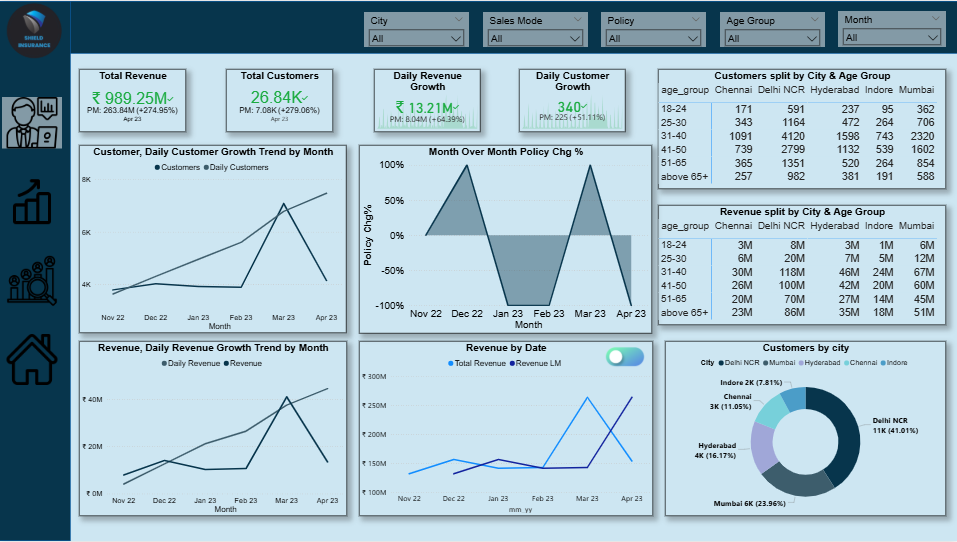

The dashboard page shown, as its layout file describes it:
{"tool":"powerbi","page":{"name":"Executive","canvas":[1920,1080],"ordinal":1},"visuals":[{"type":"donutChart","title":"Customers by city","fields":{"Y":["Key Measures.Total Customers"],"Category":["dim_customer.city"]},"box":[1334,679.9,562,350],"z":0},{"type":"lineChart","title":"Revenue by Date","fields":{"Y":["Key Measures.Total Revenue","Key Measures.Revenue LY"],"Category":["dim_date.mm_yy","dim_date.date"]},"box":[722.5,680,587.5,350],"z":0,"group":"g2"},{"type":"kpi","title":"Total Revenue","fields":{"TrendLine":["dim_date.mm_yy"],"Goal":["Key Measures.Blank Revenue"],"Indicator":["Key Measures.TOTAL REVENUE ALL"]},"box":[162.3,136.3,213.8,125.6],"z":1000},{"type":"image","box":[1197.5,680,112.5,62.5],"z":1000,"group":"g2"},{"type":"kpi","title":"Daily Customer Growth","fields":{"Goal":["Key Measures.Blank Customer PD"],"TrendLine":["dim_date.mm_yy"],"Indicator":["Key Measures.Average Daily Customer KPI Value"]},"box":[1041.8,136.3,213,125.6],"z":2000},{"type":"lineChart","title":"Revenue, Daily Revenue Growth Trend by Month","fields":{"Y":["Sum(policy customer_revenue_growth_over_time.REVENUE)"],"Y2":["Key Measures.Total Revenue"],"Category":["dim_date.mm_yy"]},"box":[162.3,679.9,535.6,350.4],"z":3000},{"type":"pivotTable","title":"Customers split by City & Age Group","fields":{"Values":["Key Measures.Total Customers"],"Columns":["dim_customer.city"],"Rows":["dim_customer.age_group"]},"box":[1320,136.3,576,240],"z":4000},{"type":"pivotTable","title":"Revenue split by City & Age Group","fields":{"Columns":["dim_customer.city"],"Rows":["dim_customer.age_group"],"Values":["Key Measures.Total Revenue"]},"box":[1320,408.1,576,240],"z":5000},{"type":"lineChart","title":"Customer, Daily Customer Growth Trend by Month","fields":{"Category":["dim_date.mm_yy"],"Y":["Key Measures.Total Customers"],"Y2":["Max(policy customer_revenue_growth_over_time.CUSTOMER_GROWTH)"]},"box":[162.3,288,535,376],"z":6000},{"type":"kpi","title":"Total Customers","fields":{"TrendLine":["dim_date.mm_yy"],"Goal":["Key Measures.Blank Customers"],"Indicator":["Key Measures.TOTAL CUSTOMERS ALL"]},"box":[456.9,136.3,213.8,125.6],"z":7000},{"type":"kpi","title":"Daily Revenue Growth","fields":{"Goal":["Key Measures.Blank Daily Revenue PD"],"TrendLine":["dim_date.mm_yy"],"Indicator":["Key Measures.Average Daily Revenue Growth KPI Visual"]},"box":[751.6,136.3,213,125.6],"z":8000},{"type":"hundredPercentStackedAreaChart","title":"Month Over Month Policy Chg %","fields":{"Y":["Key Measures.Policy Chg %"],"Category":["dim_date.mm_yy"]},"box":[722.2,288,586.3,376.9],"z":9000},{"type":"shape","box":[0,0,1920,105],"z":10000},{"type":"shape","box":[0,0,145,1080],"z":11000},{"type":"image","box":[12,490.5,120,102.5],"z":12000},{"type":"image","box":[12,643,120,102.5],"z":13000},{"type":"image","box":[12,338,120,102.5],"z":14000},{"type":"image","box":[0,0,145.3,119.3],"z":15000},{"type":"image","box":[16,192,112,96],"z":16000},{"type":"slicer","fields":{"Values":["dim_date.mm_yy"]},"box":[1680,20.1,216,72],"z":17000},{"type":"slicer","fields":{"Values":["dim_policies.policy_id"]},"box":[1206.2,21.1,210,70],"z":18000},{"type":"slicer","fields":{"Values":["dim_customer.age_group"]},"box":[1443.1,21.1,210,70],"z":19000},{"type":"slicer","fields":{"Values":["fact_premiums.sales_mode"]},"box":[969.3,21.1,210,70],"z":20000},{"type":"slicer","fields":{"Values":["dim_customer.city"]},"box":[732.4,21.1,210,70],"z":21000},{"type":"group","id":"g1","title":"Group 1","box":[721,679.9,586,350],"z":22000},{"type":"group","id":"g2","title":"Group 2","box":[722.5,680,587.5,350],"z":23000}]}

Visuals, with their boxes on the page's 1920x1080 design canvas (x1, y1, x2, y2). These are canvas units, not pixel positions in the 957x542 screenshot, which may show the page scaled, cropped or inside an application window:
"Customers by city" donutChart: x1=1334 y1=680 x2=1896 y2=1030
"Revenue by Date" lineChart: x1=722 y1=680 x2=1310 y2=1030
"Total Revenue" kpi: x1=162 y1=136 x2=376 y2=262
image: x1=1198 y1=680 x2=1310 y2=742
"Daily Customer Growth" kpi: x1=1042 y1=136 x2=1255 y2=262
"Revenue, Daily Revenue Growth Trend by Month" lineChart: x1=162 y1=680 x2=698 y2=1030
"Customers split by City & Age Group" pivotTable: x1=1320 y1=136 x2=1896 y2=376
"Revenue split by City & Age Group" pivotTable: x1=1320 y1=408 x2=1896 y2=648
"Customer, Daily Customer Growth Trend by Month" lineChart: x1=162 y1=288 x2=697 y2=664
"Total Customers" kpi: x1=457 y1=136 x2=671 y2=262
"Daily Revenue Growth" kpi: x1=752 y1=136 x2=965 y2=262
"Month Over Month Policy Chg %" hundredPercentStackedAreaChart: x1=722 y1=288 x2=1308 y2=665
shape: x1=0 y1=0 x2=1920 y2=105
shape: x1=0 y1=0 x2=145 y2=1080
image: x1=12 y1=490 x2=132 y2=593
image: x1=12 y1=643 x2=132 y2=746
image: x1=12 y1=338 x2=132 y2=440
image: x1=0 y1=0 x2=145 y2=119
image: x1=16 y1=192 x2=128 y2=288
slicer - dim_date.mm_yy: x1=1680 y1=20 x2=1896 y2=92
slicer - dim_policies.policy_id: x1=1206 y1=21 x2=1416 y2=91
slicer - dim_customer.age_group: x1=1443 y1=21 x2=1653 y2=91
slicer - fact_premiums.sales_mode: x1=969 y1=21 x2=1179 y2=91
slicer - dim_customer.city: x1=732 y1=21 x2=942 y2=91
"Group 1" group: x1=721 y1=680 x2=1307 y2=1030
"Group 2" group: x1=722 y1=680 x2=1310 y2=1030
